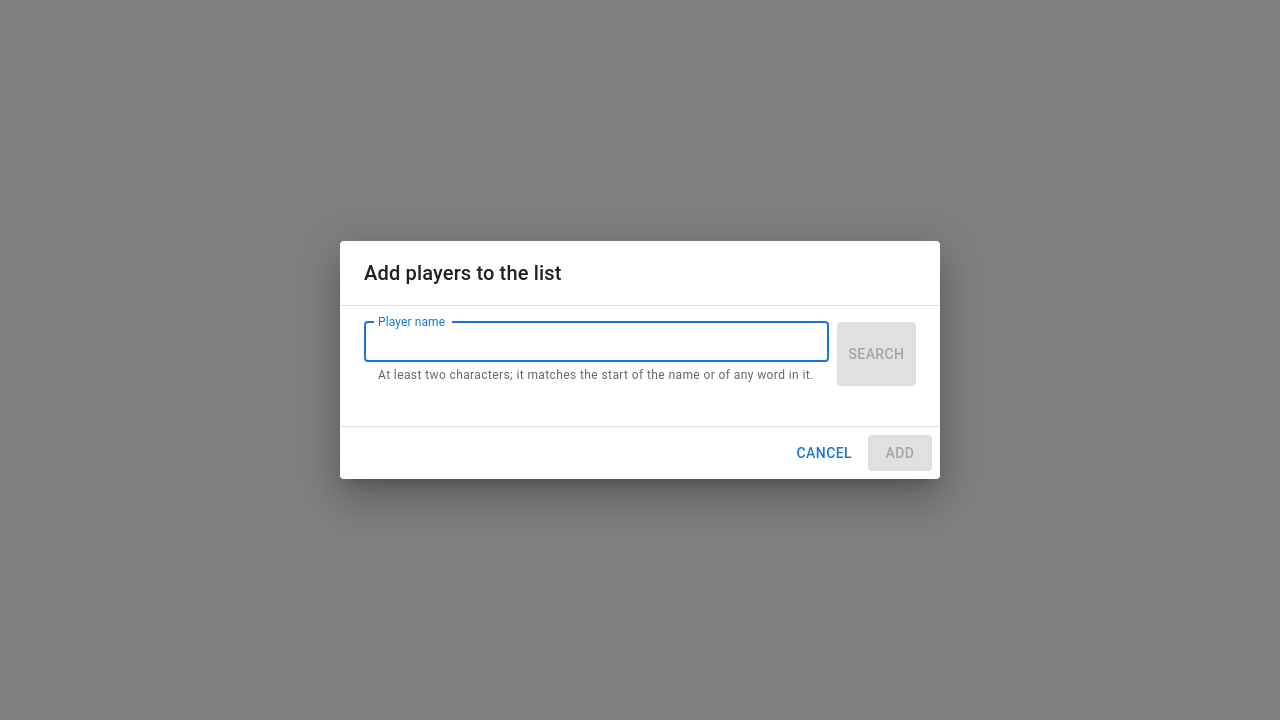
Test: AuctionPlayerSearchDialog › searches across clubs and shows the clubs and formats a player has played
The image size is (1280, 720).
Type "kohli" into the field labelled "Player name".
click(596, 342); type("kohli")  # box [364, 322, 829, 362]
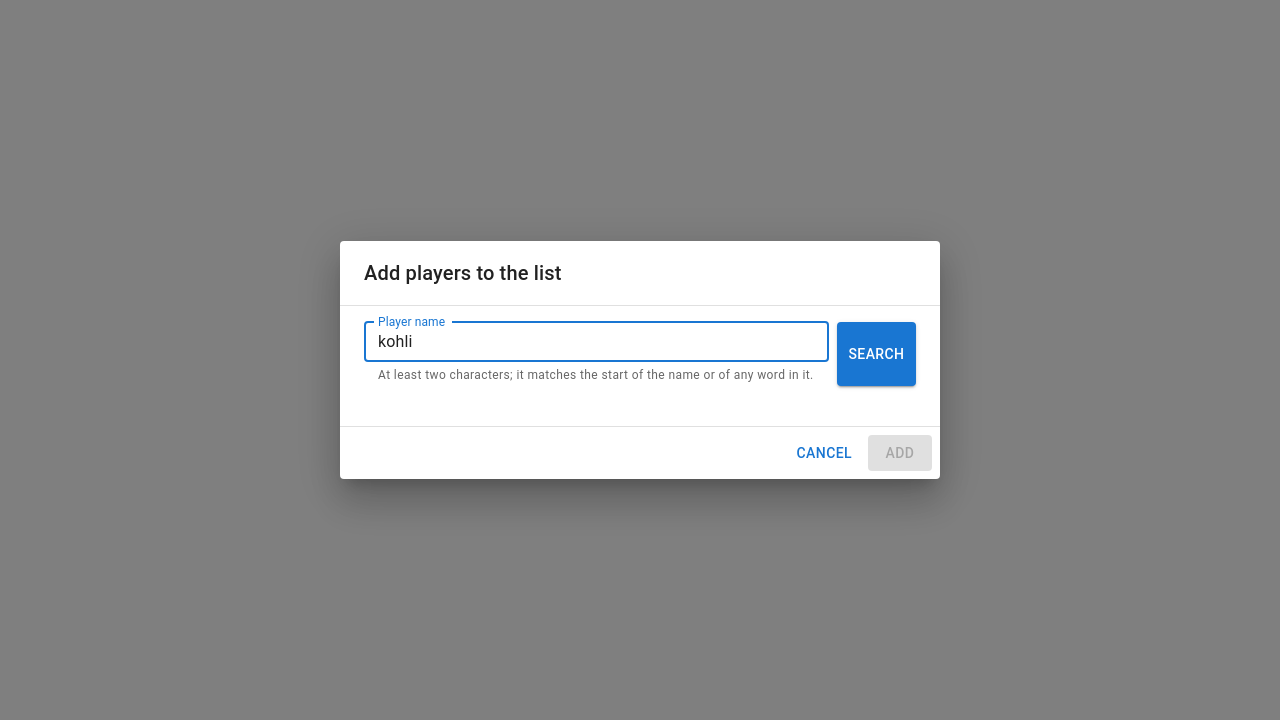
Click the button "Search".
click(876, 354)  # box [837, 322, 916, 386]
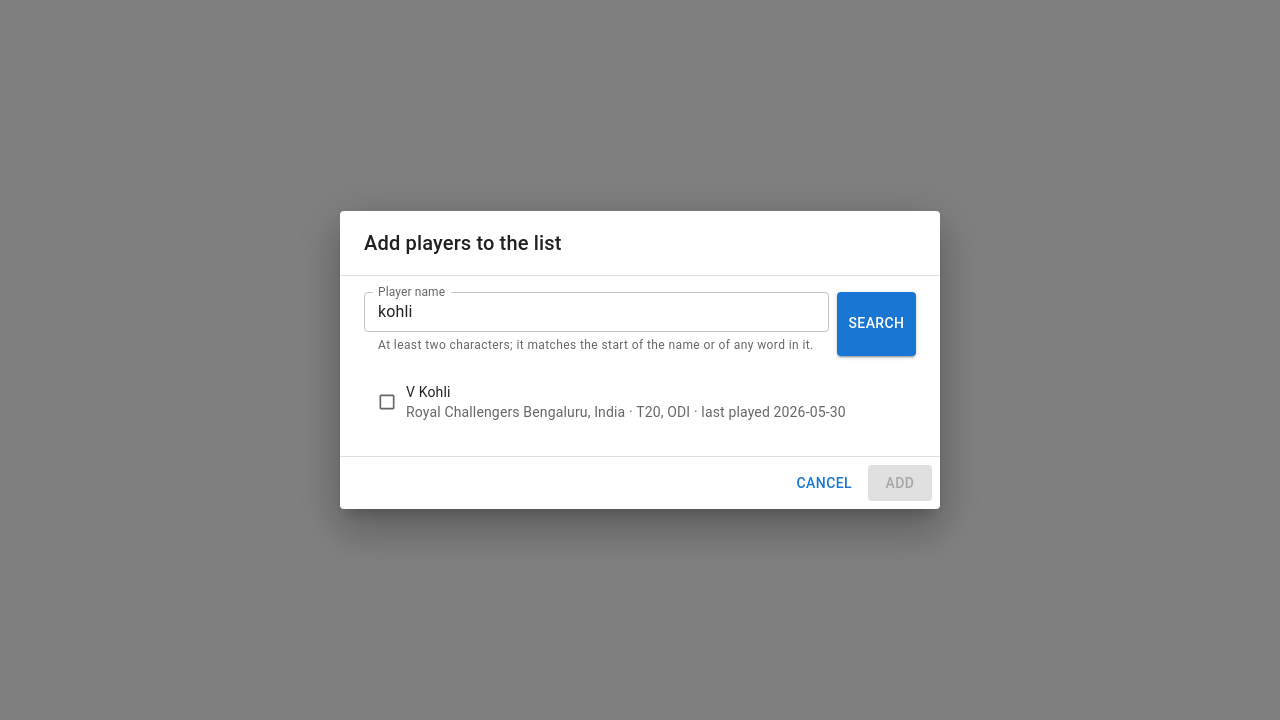
Now the text "V Kohli" is shown, box [406, 382, 450, 402]
Now the text "Royal Challengers Bengaluru, India" is shown, box [406, 404, 625, 420]
Now the text "T20, ODI" is shown, box [625, 404, 690, 420]
